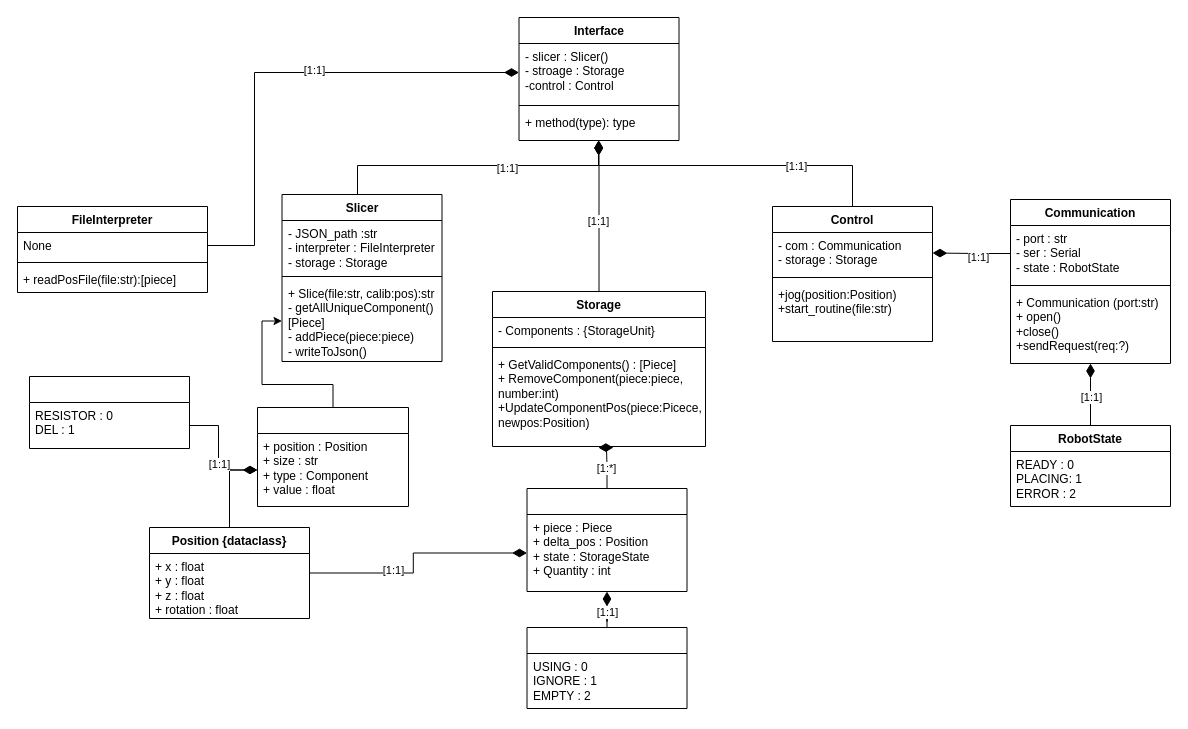
This 1188x729 diagram has some shape labels left out. Here are the shapes that lost their labels. From the top down, the box of each, then its label:
(28, 376, 190, 448): Componant {enum}
(256, 406, 408, 506): Piece {dataclass}
(526, 488, 687, 592): StorageUnit {dataclass}
(526, 626, 687, 708): StorageState {enum}
